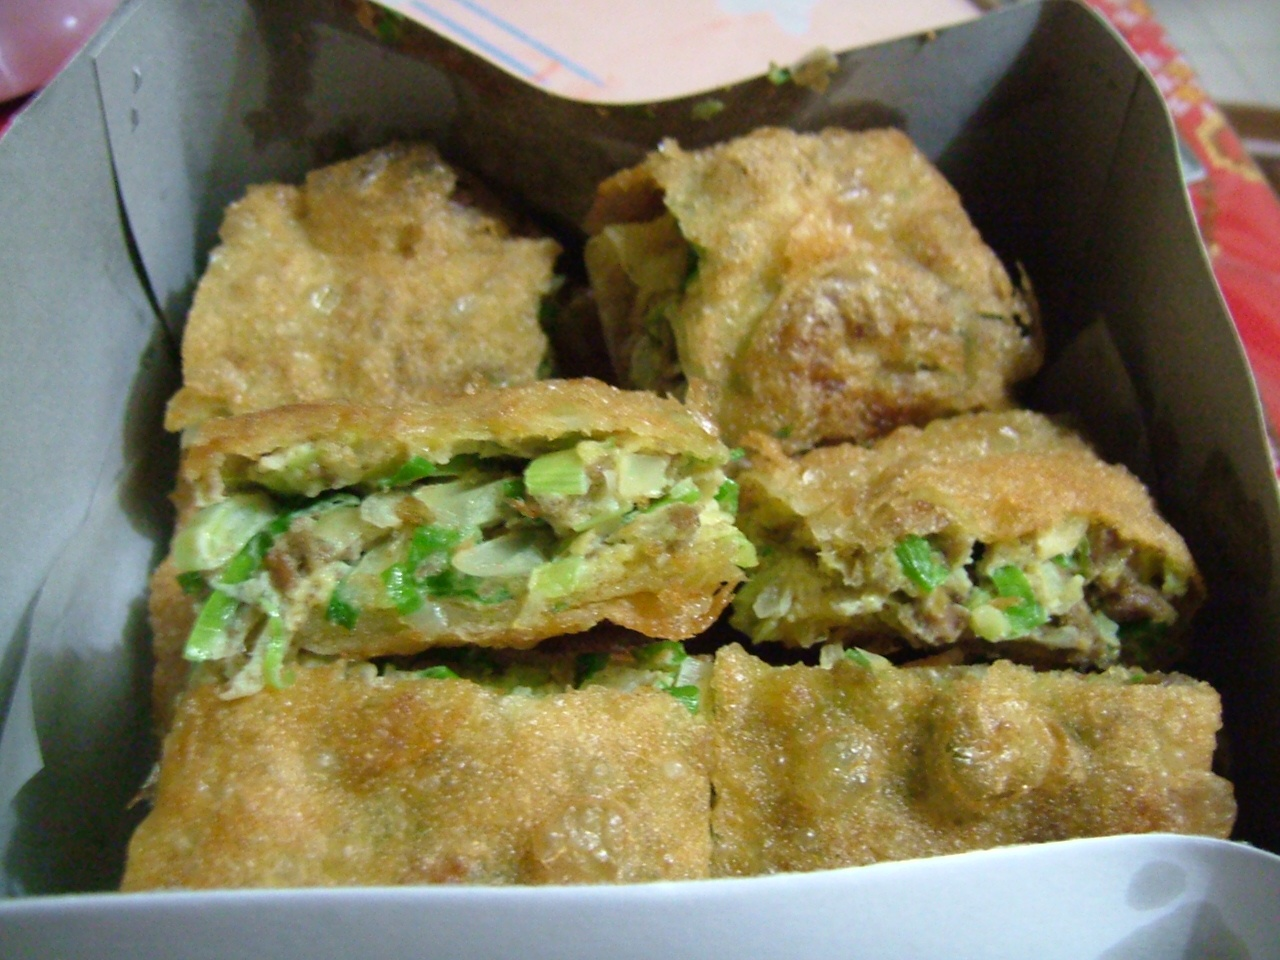martabak: (102, 124, 1243, 871)
